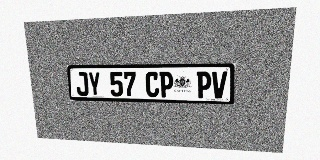5: (110, 72, 123, 97)
7: (123, 72, 136, 97)
C: (145, 72, 159, 97)
J: (75, 72, 89, 96)
P: (196, 71, 211, 98), (159, 72, 173, 98)
V: (211, 71, 227, 98)
Y: (88, 72, 101, 96)
